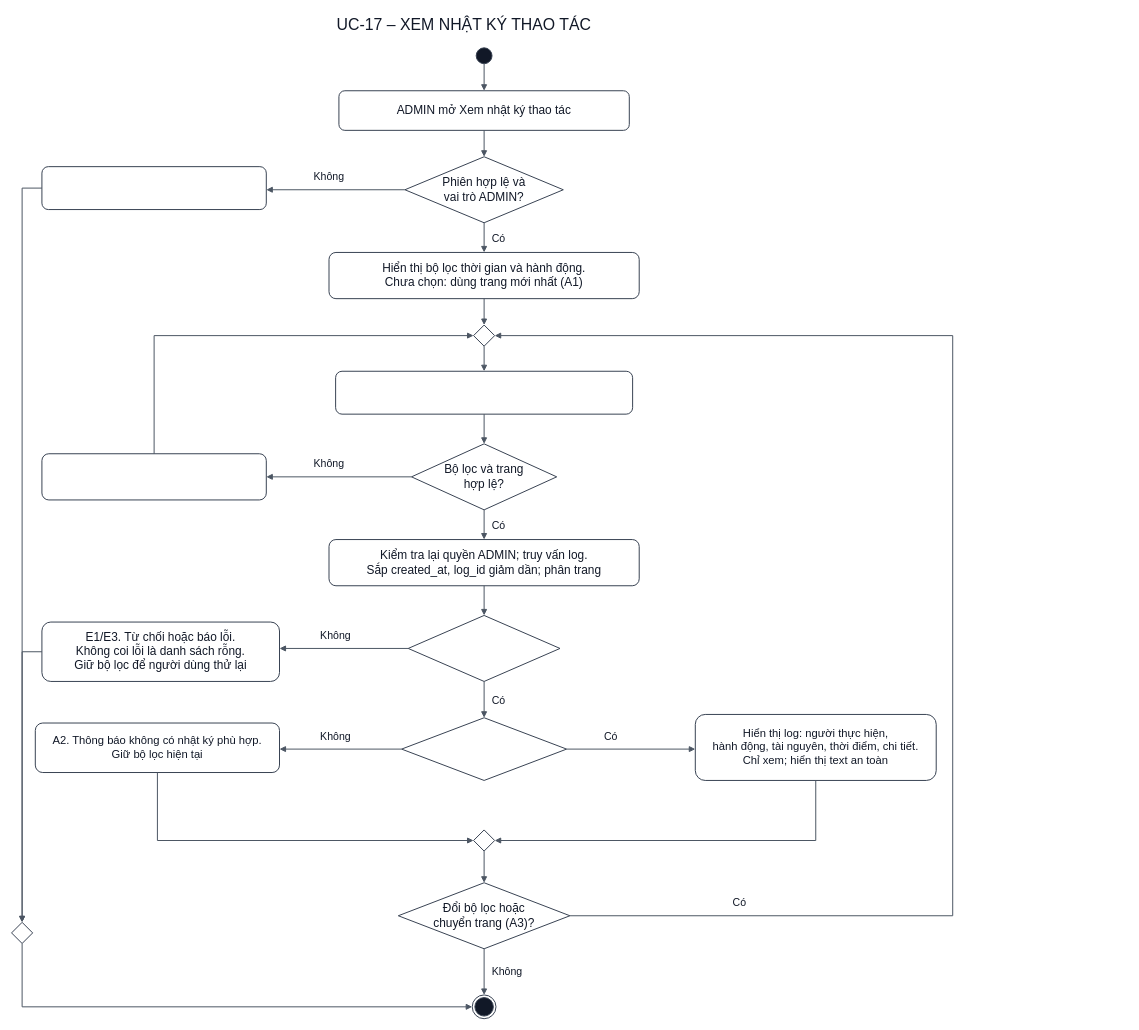
Some shapes in this 1139 by 1030 pixel diagram are drawn without their labels. The shapes that lost their labels are listed below. From the top down, each one's centre as x and y in pixels, then its label:
At (154,188): "E1. Từ chối (401/403). Không trả dữ liệu log".
At (484,392): "Chọn bộ lọc hoặc trang cần xem; có thể giữ giá trị mặc định".
At (154,476): "E2. Thông báo lỗi bộ lọc/trang. Giữ dữ liệu để điều chỉnh".
At (483,648): "Lấy dữ liệu thành công?".
At (484,749): "Có bản ghi phù hợp?".
